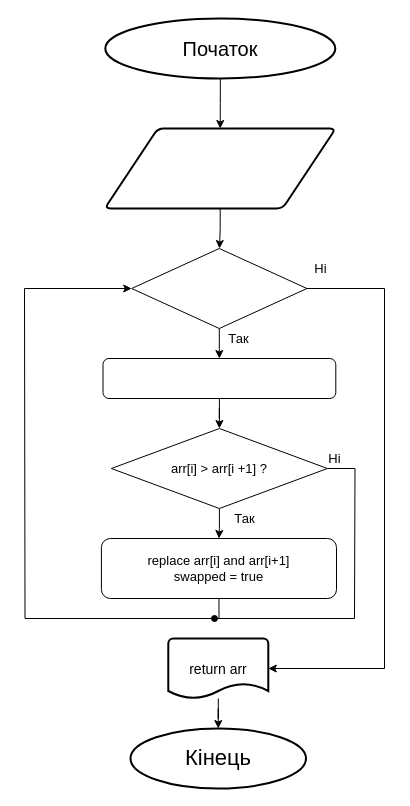
Some shapes in this 410 by 806 pixel diagram are drawn without their labels. The shapes that lost their labels are listed below. From the top down, each one's box as (x1, y1, x2, y2) in pixels, then its label:
(103, 127, 336, 209): input = [1, 3, 5, 4] swapped=true
(131, 248, 307, 328): swapped = true ?
(102, 358, 336, 398): swapped = false; for ( let j = 0 ; j < arr . length ; j ++ )
